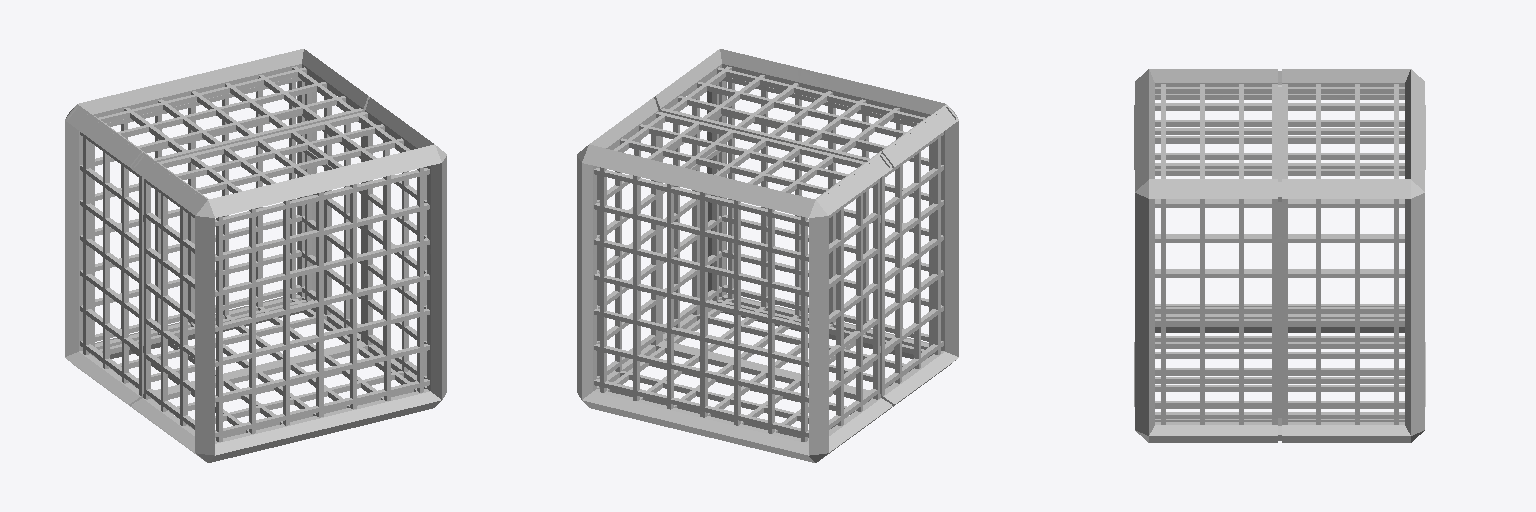
The model's file is NDDI .obj.
3 views of the same model, side by side, from view 1: azimuth 30°, elevation 25°; view 2: azimuth 150°, elevation 25°; view 3: azimuth 270°, elevation 25° (orthographic).
Parts seen in each view (by area): view 1: NDDI; view 2: NDDI; view 3: NDDI.
Part boxes in pixels (x1,y1,x2,y2): NDDI: (65, 49, 446, 462); NDDI: (577, 49, 958, 462); NDDI: (1134, 69, 1425, 442).
Size of the model in its own units: 10 by 10 by 10.